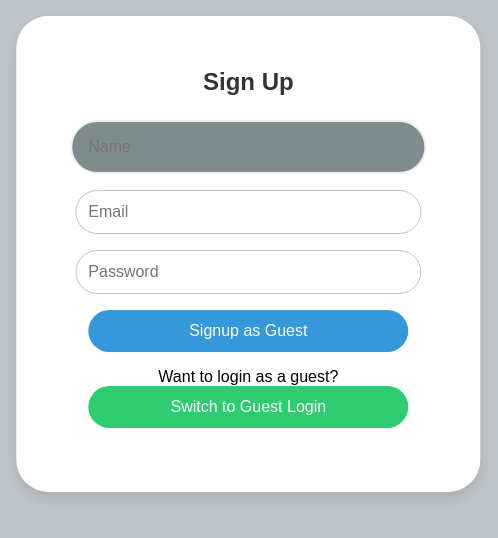
Test case: GuestSignup › displays error when email format is invalid
The image size is (498, 538).
Type "John Doe" into the field with placeholder "Name" at (248, 147), box left=70, top=120, right=426, bottom=174
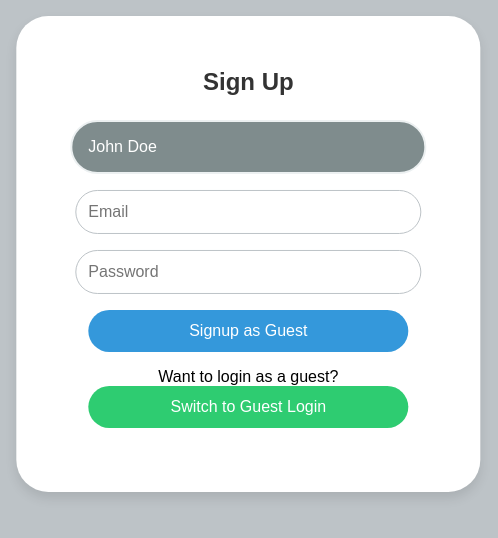
Type "invalid-email" into the field with placeholder "Email" at (248, 212), box left=75, top=190, right=421, bottom=234
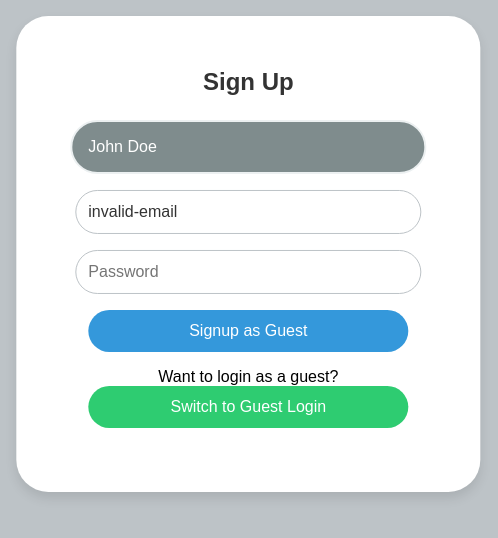
Type "password123" into the password field with placeholder "Password" at (248, 272), box left=75, top=250, right=421, bottom=294
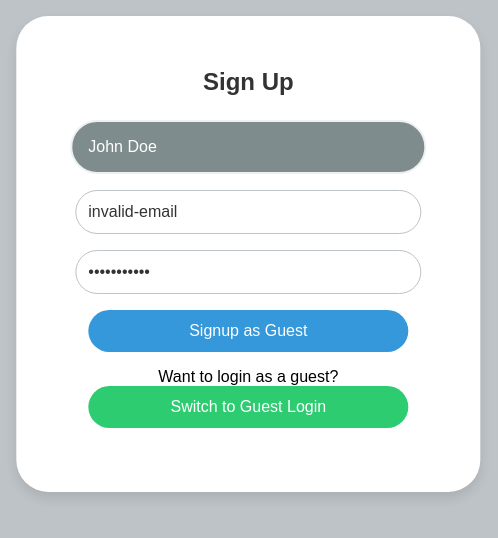
Click the button "Signup as Guest" at (248, 331), box left=88, top=310, right=408, bottom=352
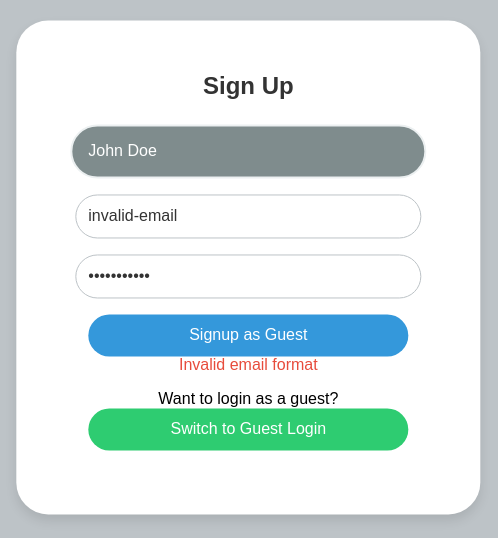
Expected: the text "Invalid email format" is shown, left=179, top=356, right=318, bottom=373
